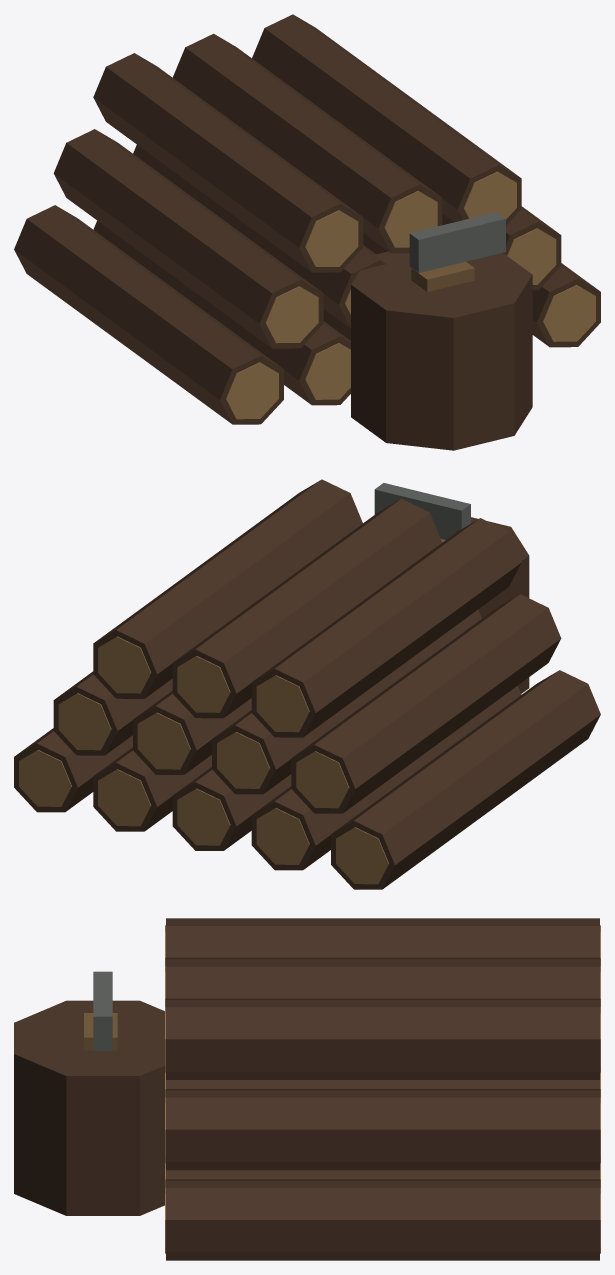
Rendered from Woodpile.glb.
The picture shows the model from 3 angles, top to bottom: view 1: azimuth 30°, elevation 25°; view 2: azimuth 150°, elevation 25°; view 3: azimuth 270°, elevation 25°; orthographic projection. The views are drawn at different scales.
Parts seen in each view (by area): view 1: Woodpile; view 2: Woodpile; view 3: Woodpile.
Part boxes in pixels (box(x1,y1,x2,y2)): Woodpile: box(14, 14, 600, 450); Woodpile: box(14, 479, 600, 889); Woodpile: box(14, 918, 600, 1260).
Bounding box in the file's own units: 0.9616 × 0.4929 × 1.22.
